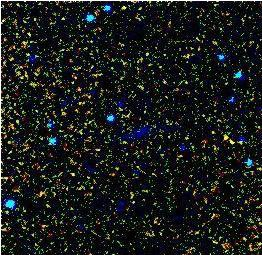star: (214, 123, 244, 153)
